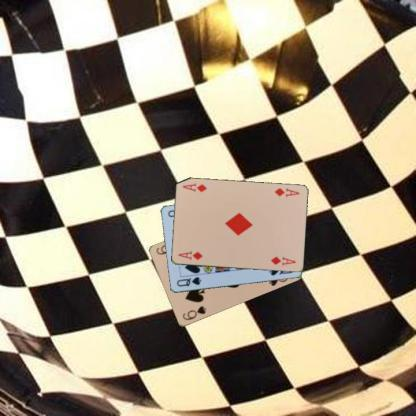6s: (180, 304, 207, 322)
Ad: (272, 185, 300, 199), (176, 249, 203, 261)
Qs: (174, 274, 202, 288)
